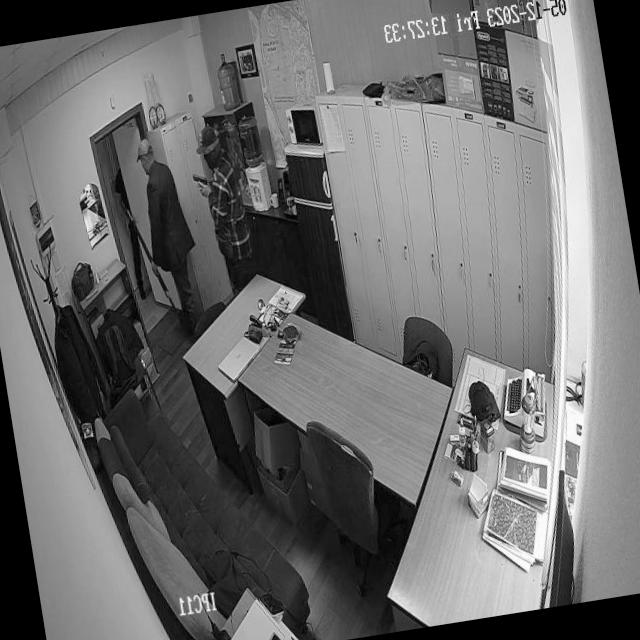gun: (116, 190, 182, 331), (190, 169, 212, 197)
person with a gun: (112, 133, 205, 341), (185, 119, 257, 275)
